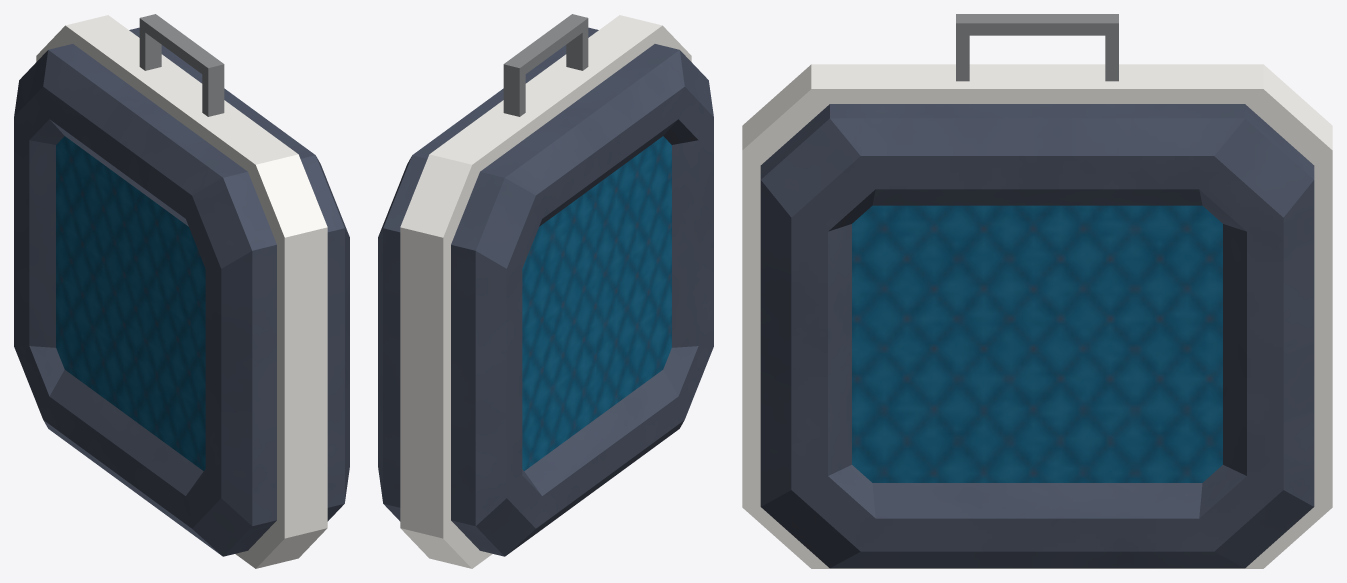
Rendered from Case.fbx.
3 renders of one model, left to right at view 1: azimuth 30°, elevation 25°; view 2: azimuth 150°, elevation 25°; view 3: azimuth 270°, elevation 25°, orthographic. The views are drawn at different scales.
Visible parts, largest first — view 1: Case1; view 2: Case1; view 3: Case1.
Boxes of the visible parts, <box> form: Case1: <box>14,14,349,568</box>; Case1: <box>378,14,713,568</box>; Case1: <box>742,14,1332,568</box>.
Bounding box in the file's own units: 18.39 × 61.81 × 61.46.
